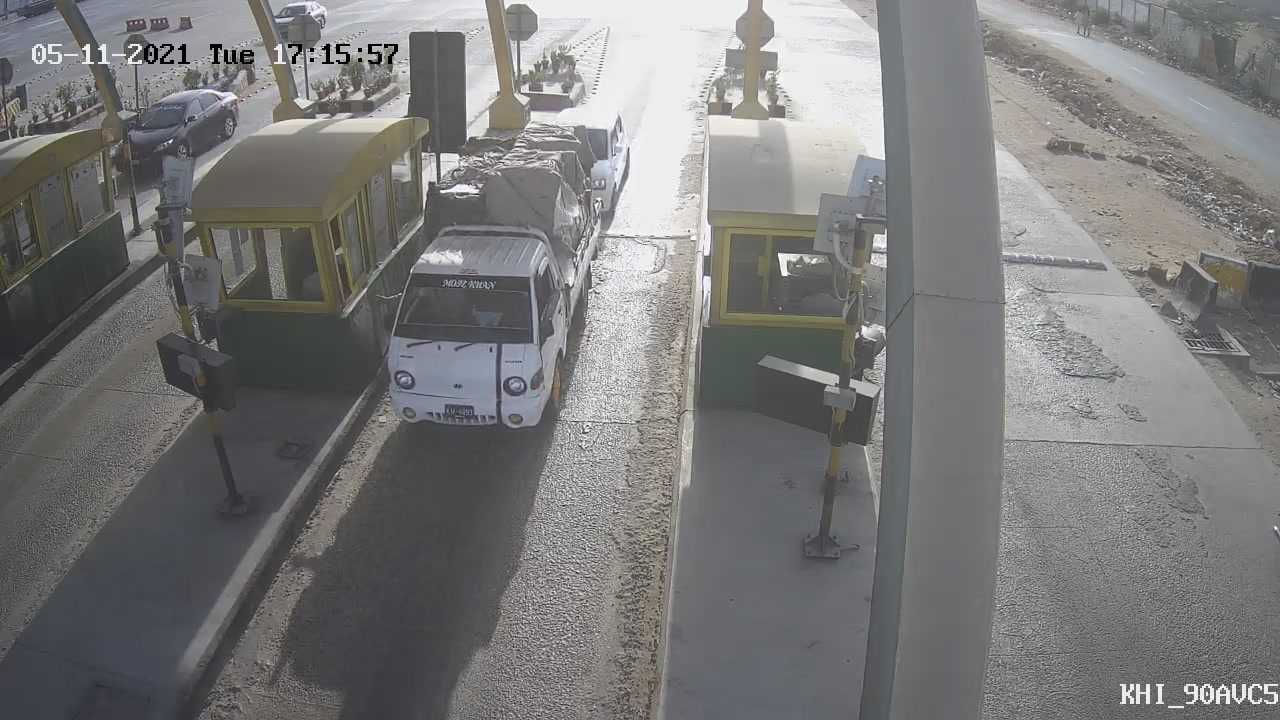F2: (344, 117, 622, 452)
